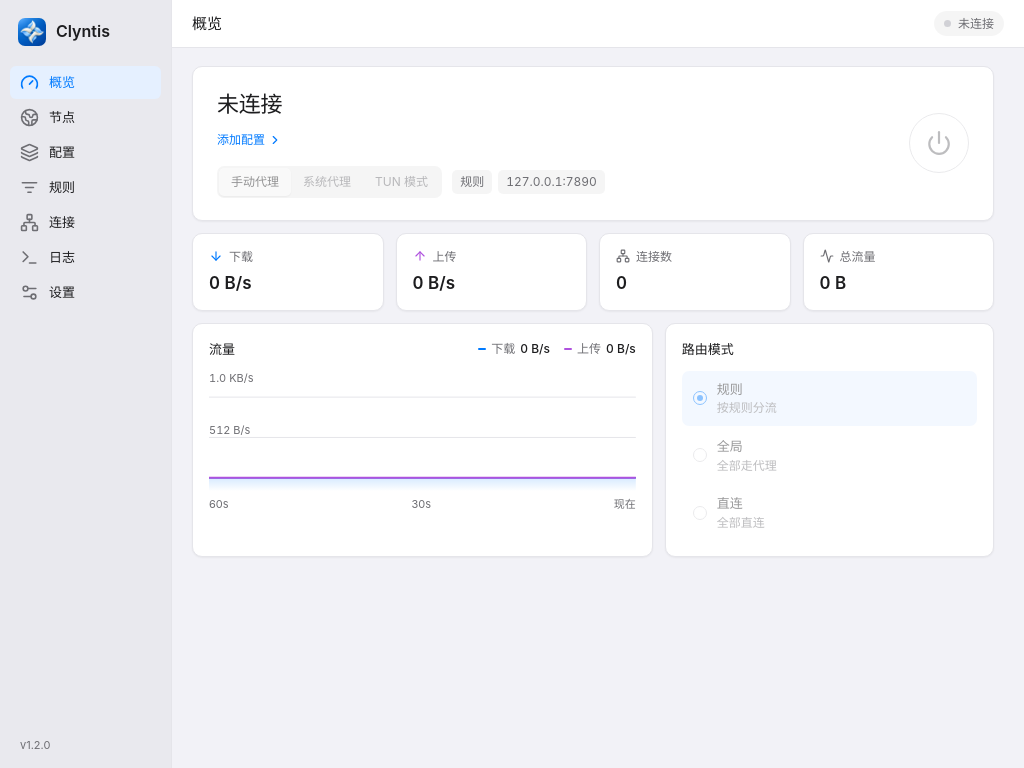
desktop workflows › keeps the compatibility report visible after adding a subscription
This screenshot has width=1024, height=768.
Click the button "配置": (86,152) top-left (10, 136), bottom-right (161, 169)
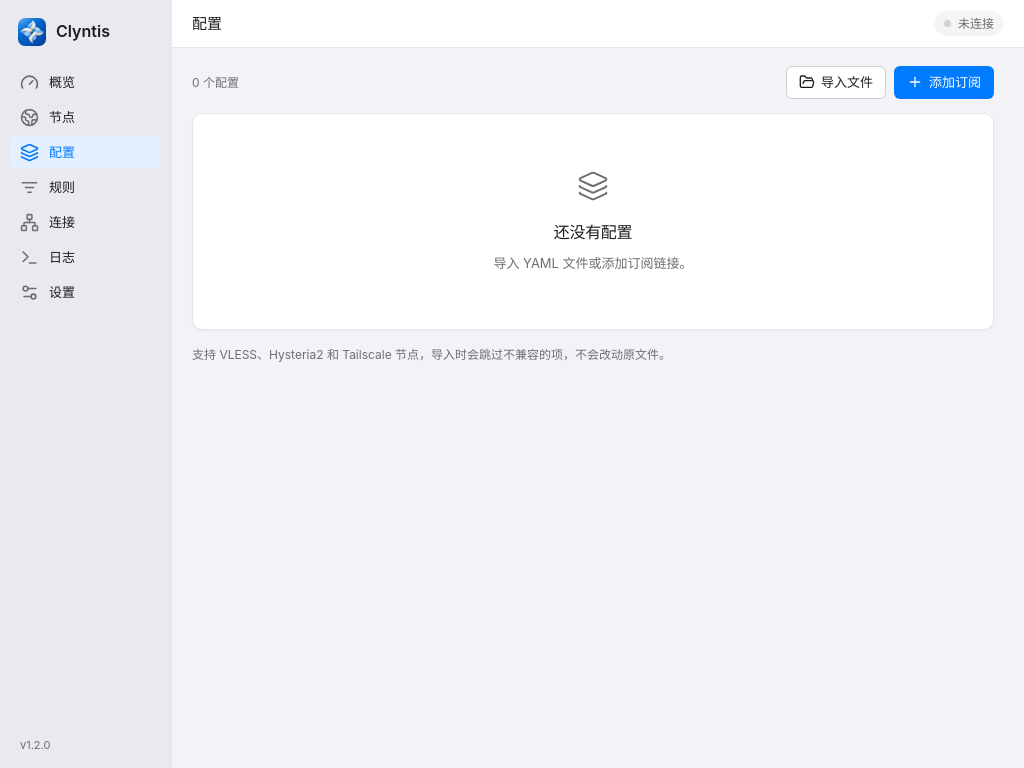
Now the button "添加订阅" is enabled
Click the button "添加订阅": (944,82) top-left (894, 66), bottom-right (994, 99)
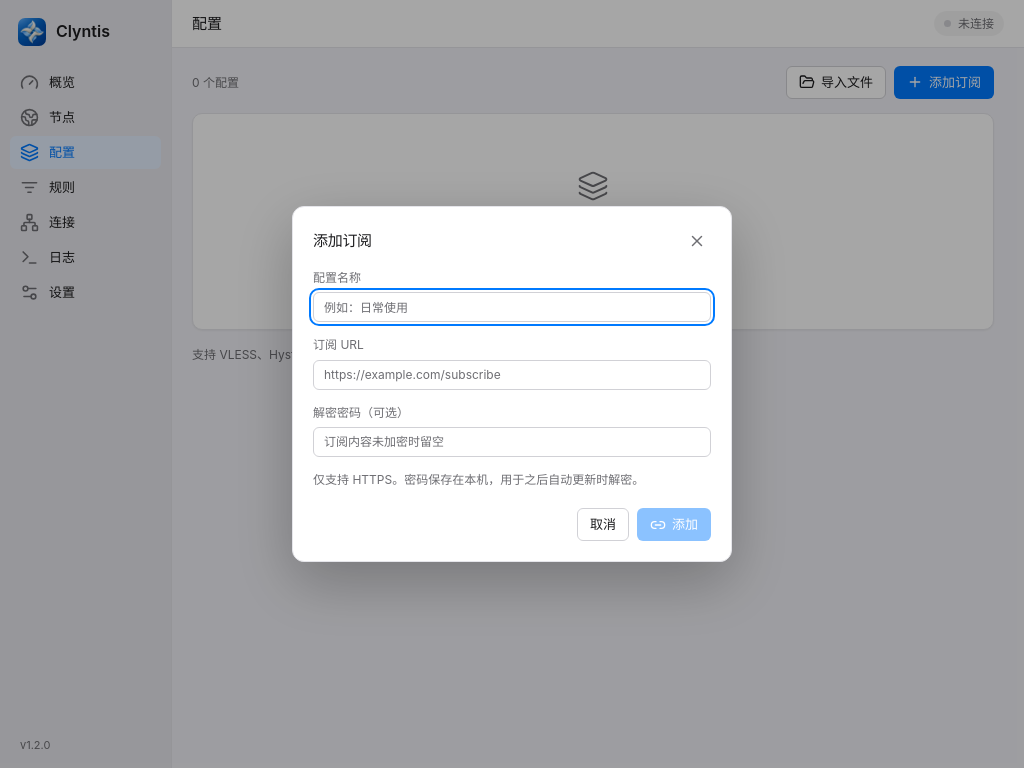
In the field labelled "配置名称": (512,307) top-left (313, 292), bottom-right (711, 322), type "日常订阅"
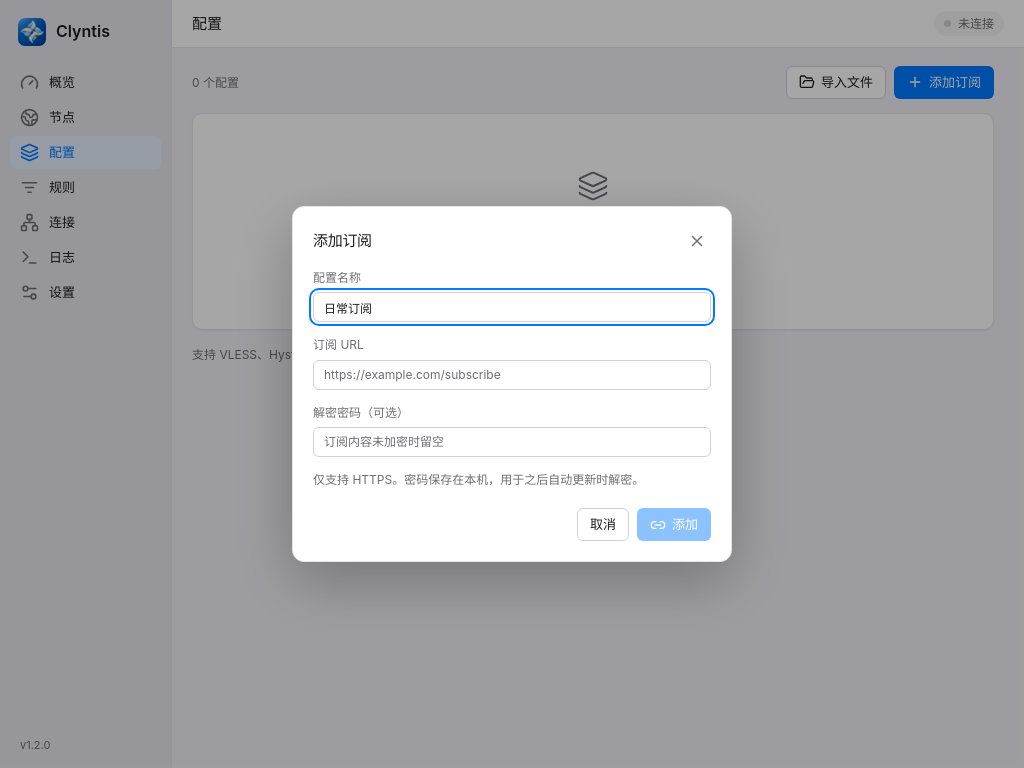
In the field labelled "订阅 URL": (512,375) top-left (313, 360), bottom-right (711, 390), type "https://example.com/sub"
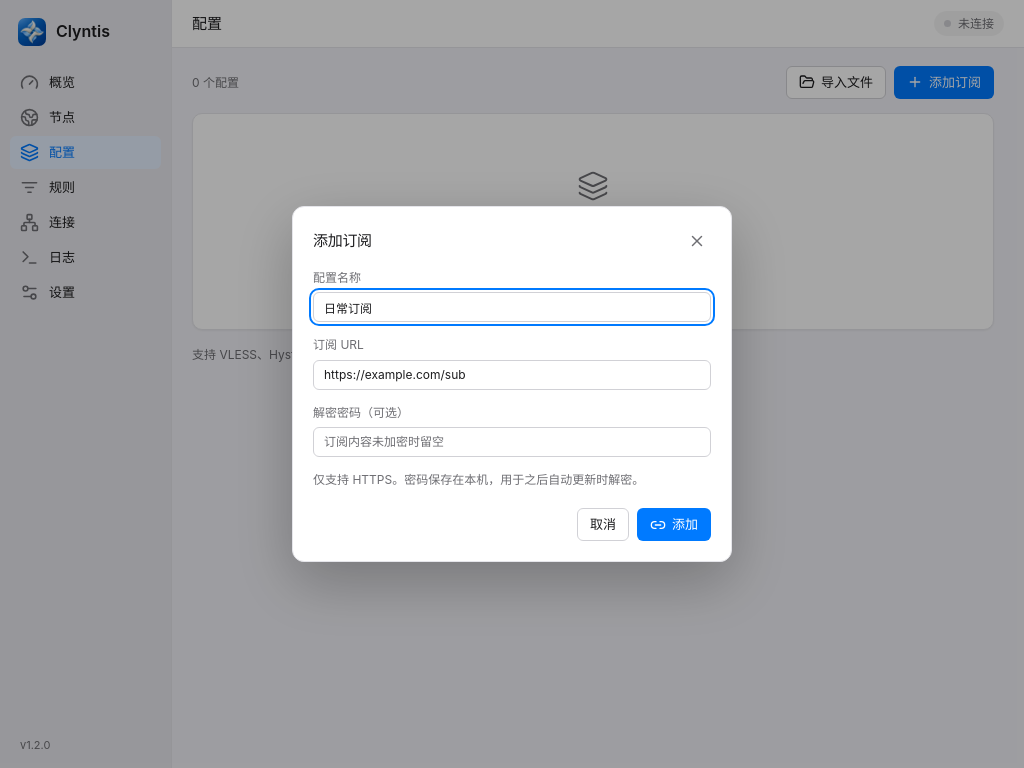
Click the button "添加": (674,525) top-left (637, 508), bottom-right (711, 541)
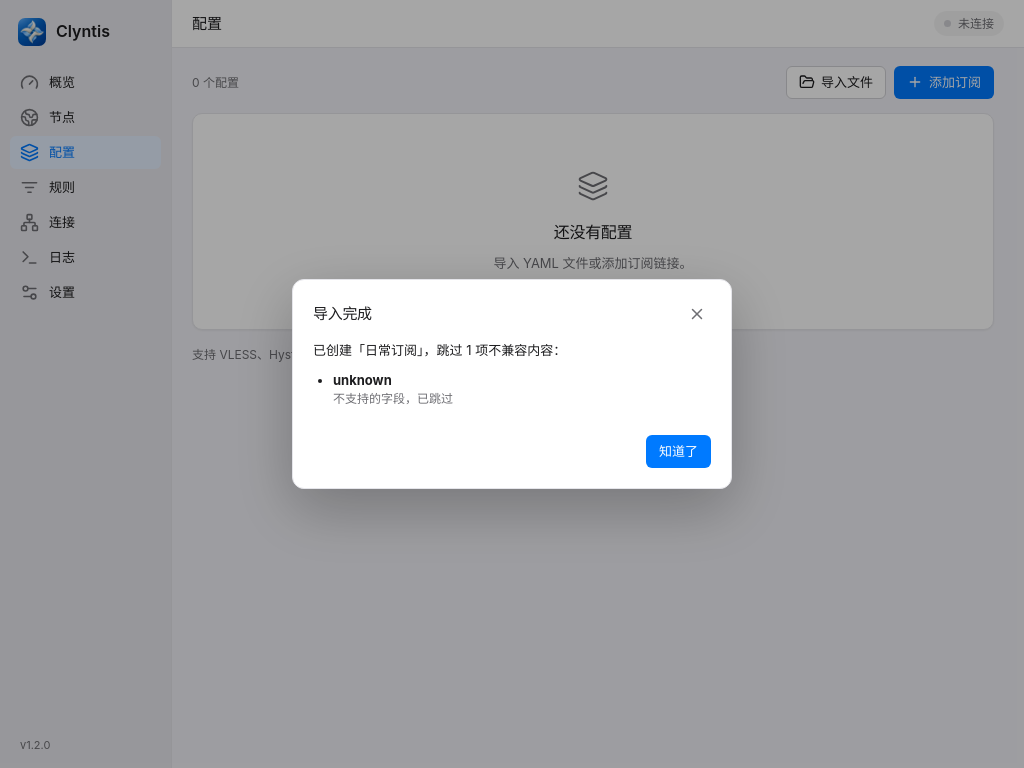
Now the button "导入文件" is enabled, box top-left (786, 66), bottom-right (886, 99)
Now the dialog "导入完成" shows "日常订阅", box top-left (365, 342), bottom-right (417, 358)
Now the dialog "导入完成" shows "unknown", box top-left (333, 372), bottom-right (392, 388)
